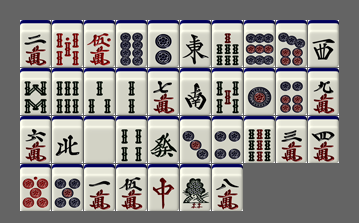0m: (84, 20, 115, 67)
0p: (20, 164, 51, 211)
0s: (52, 20, 83, 67)
1m: (84, 164, 115, 211)
1p: (244, 68, 275, 115)
1s: (180, 164, 211, 211)
1z: (180, 20, 211, 67)
2m: (20, 20, 51, 67)
2p: (148, 20, 179, 67)
2s: (116, 68, 147, 115)
2z: (180, 68, 211, 115)
3m: (276, 116, 307, 163)
3p: (180, 116, 211, 163)
3s: (84, 68, 115, 115)
3z: (308, 20, 339, 67)
4m: (308, 116, 339, 163)
4p: (212, 116, 243, 163)
4s: (116, 116, 147, 163)
4z: (52, 116, 83, 163)
5m: (116, 164, 147, 211)
5p: (52, 164, 83, 211)
5s: (212, 68, 243, 115)
5z: (84, 116, 115, 163)
6m: (20, 116, 51, 163)
6p: (276, 68, 307, 115)
6s: (52, 68, 83, 115)
6z: (148, 116, 179, 163)
7m: (148, 68, 179, 115)
7p: (276, 20, 307, 67)
7s: (212, 20, 243, 67)
7z: (148, 164, 179, 211)
8m: (212, 164, 243, 211)
8p: (116, 20, 147, 67)
8s: (20, 68, 51, 115)
9m: (308, 68, 339, 115)
9p: (244, 20, 275, 67)
9s: (244, 116, 275, 163)
